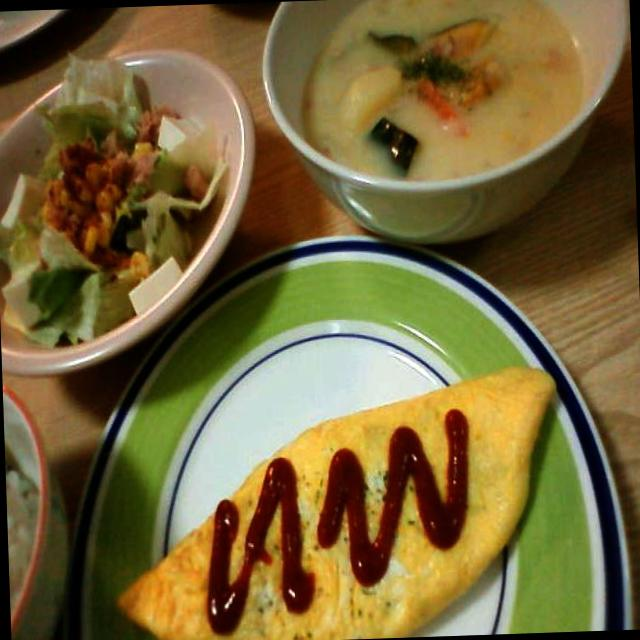Green Salad: (0, 59, 211, 321)
Omelet: (99, 362, 570, 638)
